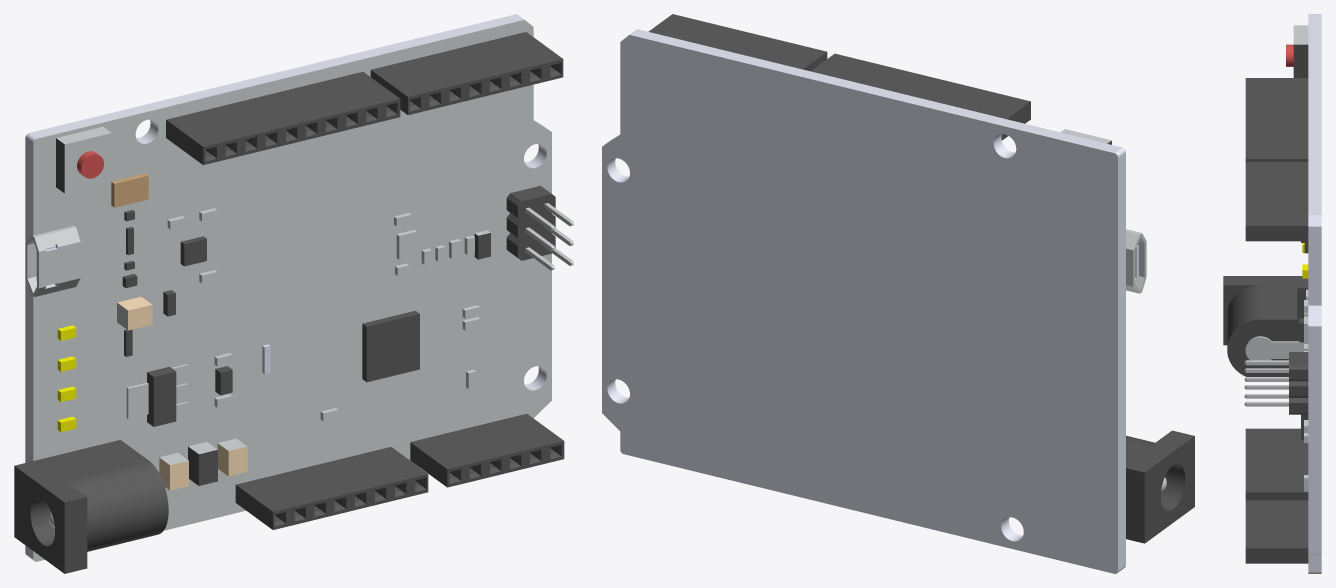
Rendered from Arduino Leonardo.glb.
3 views of the same model, side by side, from view 1: azimuth 30°, elevation 25°; view 2: azimuth 150°, elevation 25°; view 3: azimuth 270°, elevation 25° (orthographic). The views are drawn at different scales.
Parts seen in each view (by area): view 1: Arduino Leonardo; view 2: Arduino Leonardo; view 3: Arduino Leonardo.
Boxes of the visible parts, bbox=[...] form: Arduino Leonardo: bbox=[14, 14, 573, 573]; Arduino Leonardo: bbox=[602, 14, 1194, 573]; Arduino Leonardo: bbox=[1223, 14, 1321, 573].
Size of the model in its own units: 0.0709 by 0.0533 by 0.0133.
